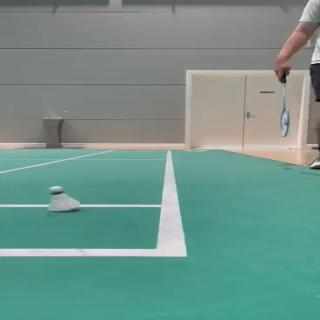Shuttle: (46, 186, 80, 212)
